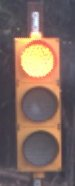Red: (4, 23, 66, 176)
